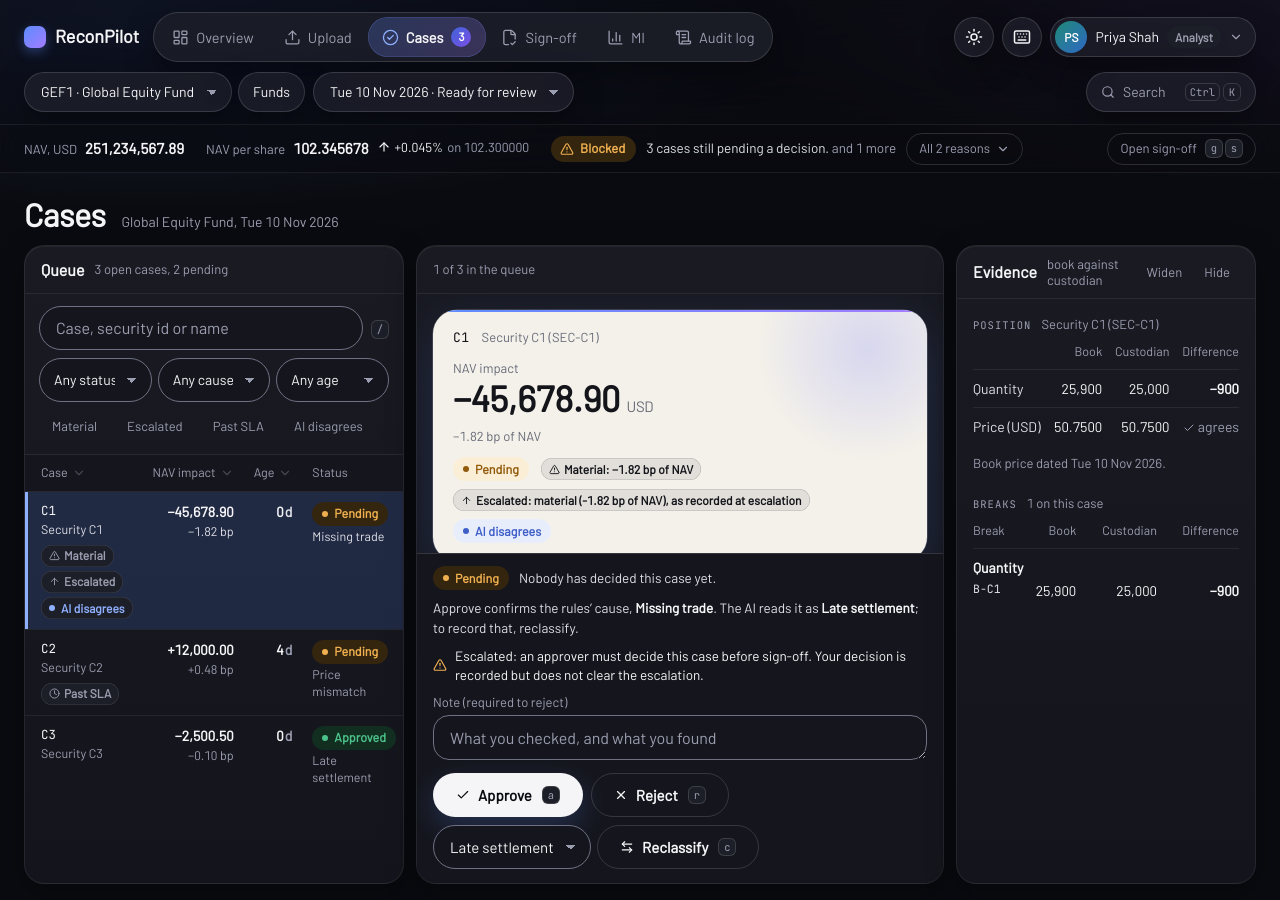
case workbench › approves with the case's version and the note, then refetches the day
In the text box labelled "Note (required to reject)": coordinates (680, 737) [433,715,927,760], type "Agreed with the custodian."
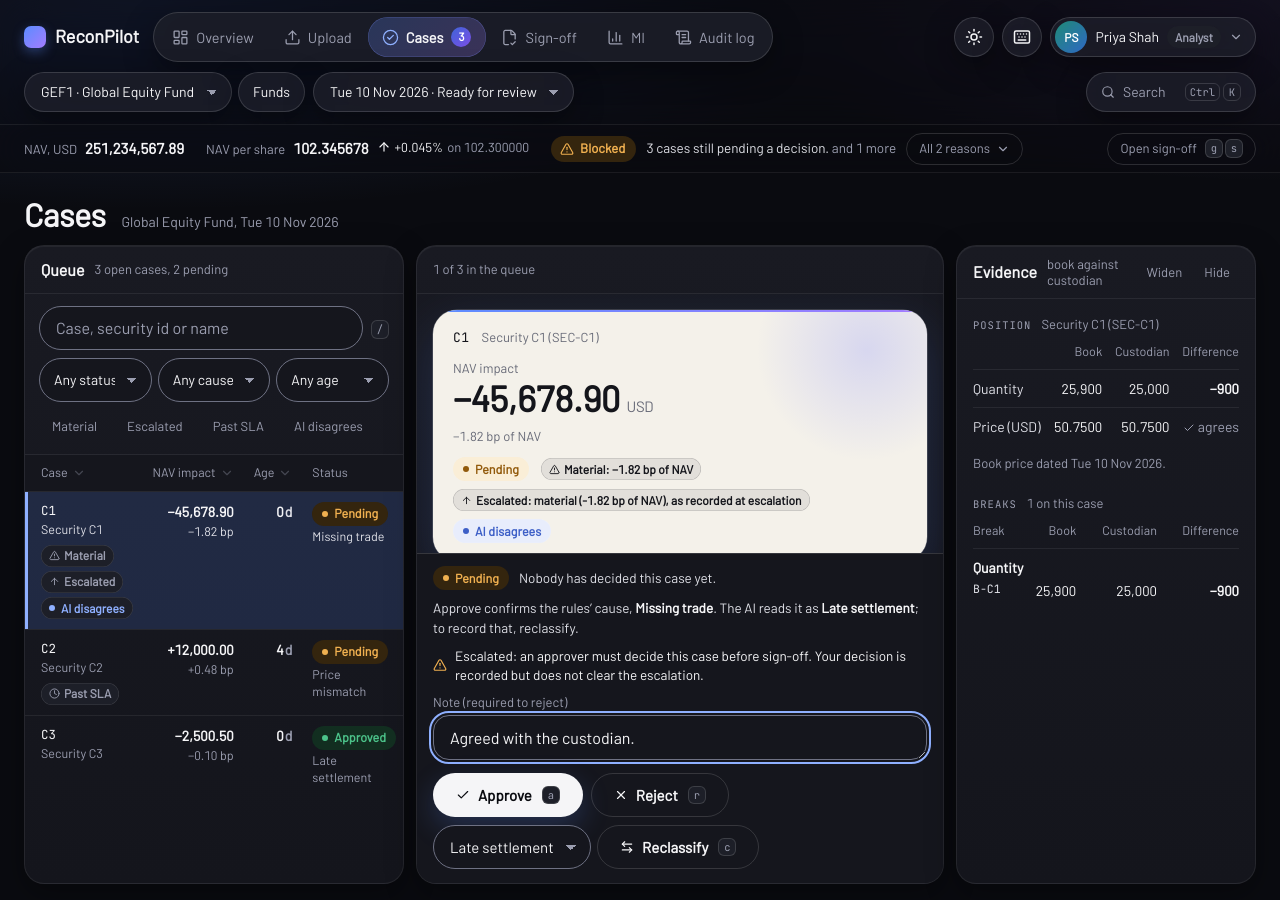
Click the button "Approve a": coordinates (508, 795) [433,773,583,817]
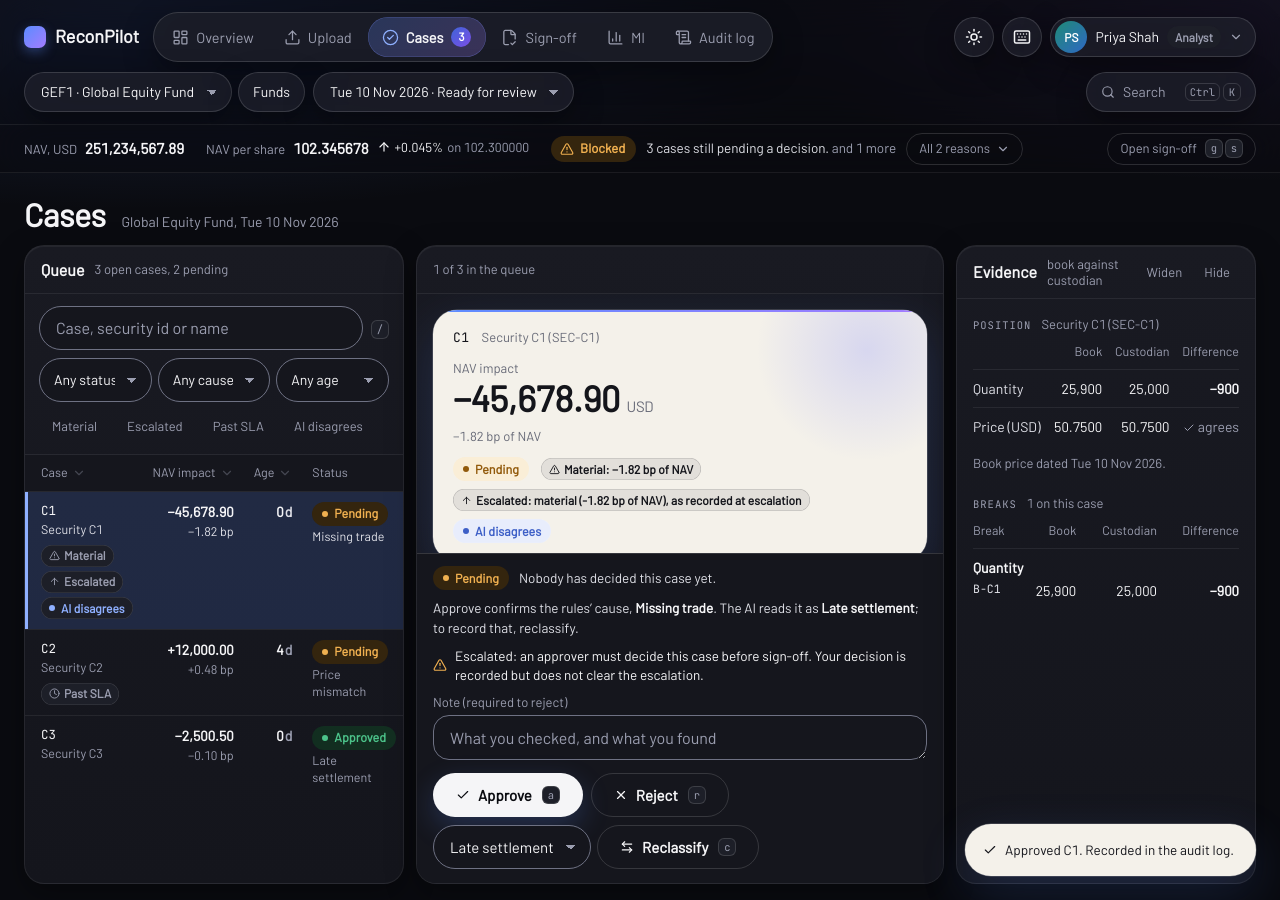
Now the text "Approved C1. Recorded in the audit log." is shown, box [965,824,1256,876]
Now the text box labelled "Note (required to reject)" is empty, box [433,715,927,760]
